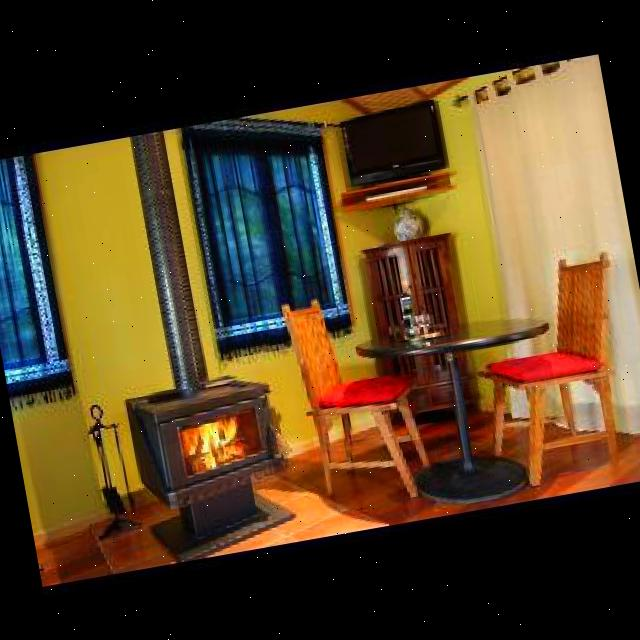fire: (176, 406, 266, 474)
